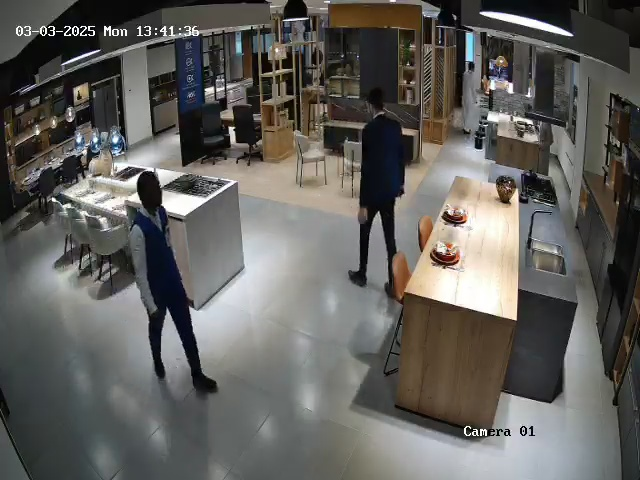employee: (128, 171, 219, 394)
male: (348, 87, 406, 290), (459, 53, 479, 140)
